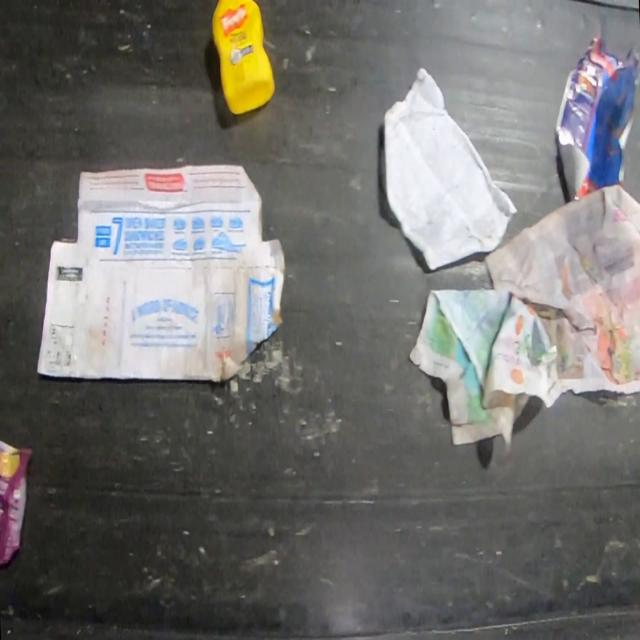cardboard: (37, 164, 286, 385)
rigid_plastic: (210, 0, 276, 116)
soft_plastic: (0, 441, 31, 569)
